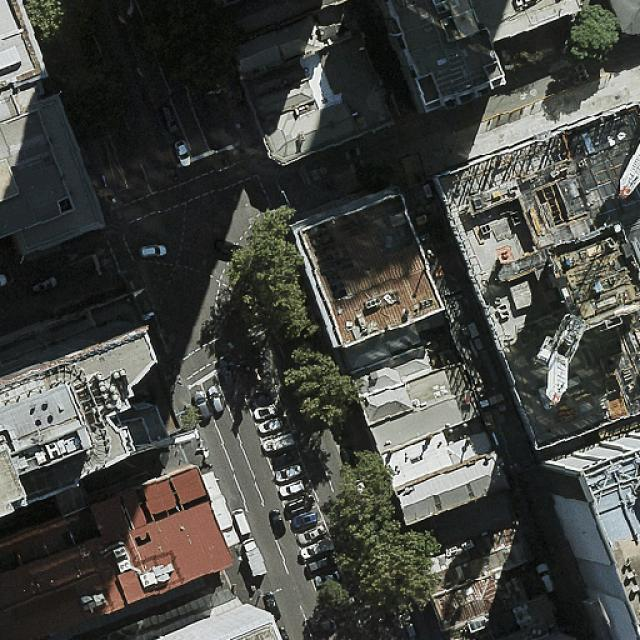Bike-Symbols: (66, 248, 82, 264), (102, 255, 116, 268), (94, 245, 108, 256)
